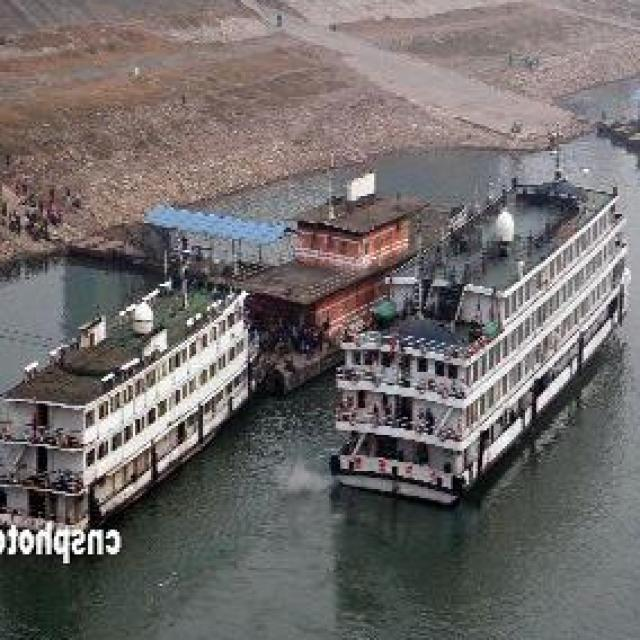passenger ship: (332, 171, 630, 500), (0, 266, 257, 536), (233, 171, 442, 385)
